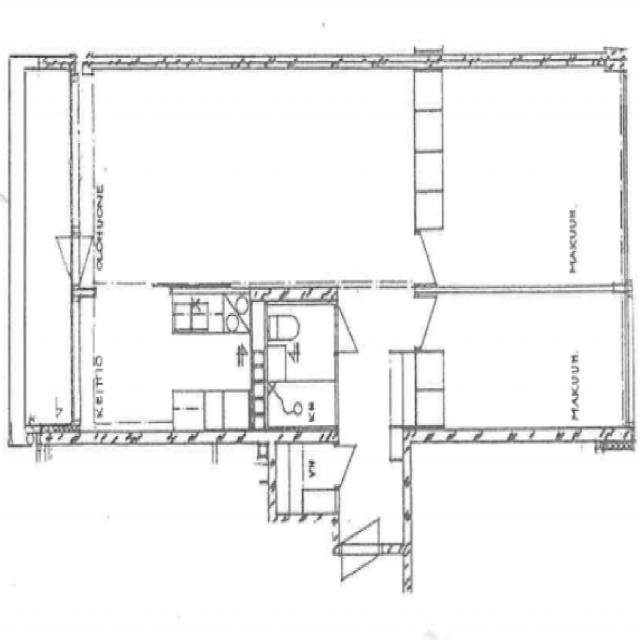door: (341, 543, 380, 613), (341, 486, 380, 556), (414, 230, 459, 286), (414, 297, 456, 349), (69, 236, 114, 284), (36, 236, 80, 284), (334, 305, 372, 352), (334, 446, 368, 487)
